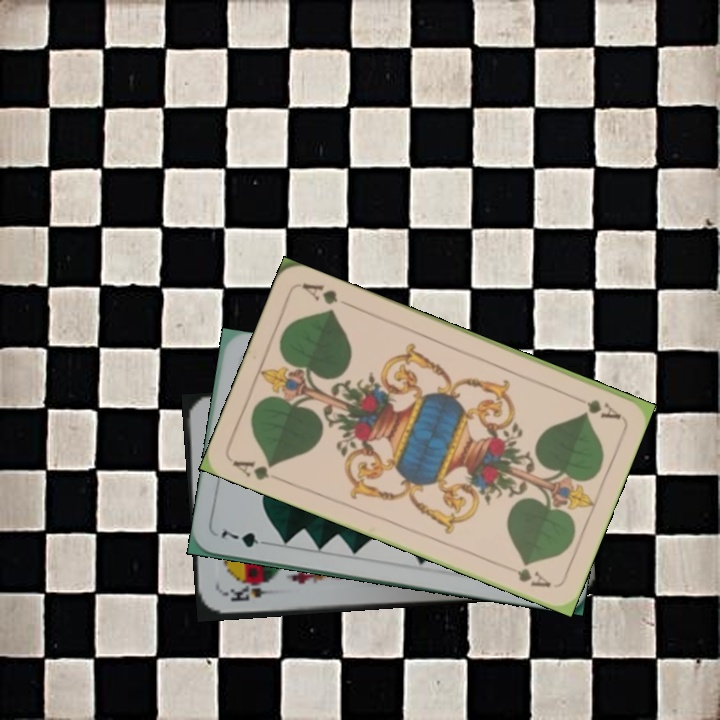G7: (217, 525, 274, 551)
GA: (567, 391, 623, 422), (228, 456, 277, 483)
SK: (220, 583, 279, 604)
